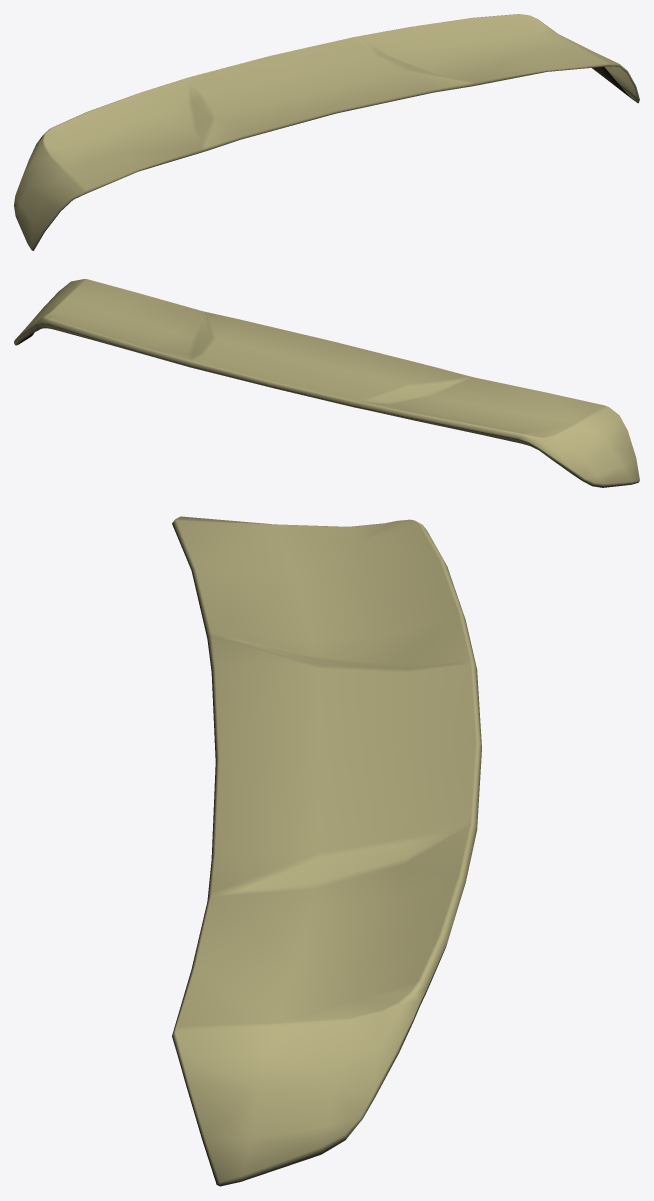
Rendered from Zr1_Spoiler_02_Duco.fbx.
3 renders of one model, top to bottom at view 1: azimuth 30°, elevation 25°; view 2: azimuth 150°, elevation 25°; view 3: azimuth 270°, elevation 25°, orthographic. The views are drawn at different scales.
Parts seen in each view (by area): view 1: Zr1_Spoiler_02_Duco; view 2: Zr1_Spoiler_02_Duco; view 3: Zr1_Spoiler_02_Duco.
Boxes of the visible parts, x1,y1,x2,y2 form: Zr1_Spoiler_02_Duco: [14, 14, 639, 250]; Zr1_Spoiler_02_Duco: [14, 279, 639, 487]; Zr1_Spoiler_02_Duco: [172, 516, 481, 1186].
Size of the model in its own units: 166 by 19.44 by 36.52.
